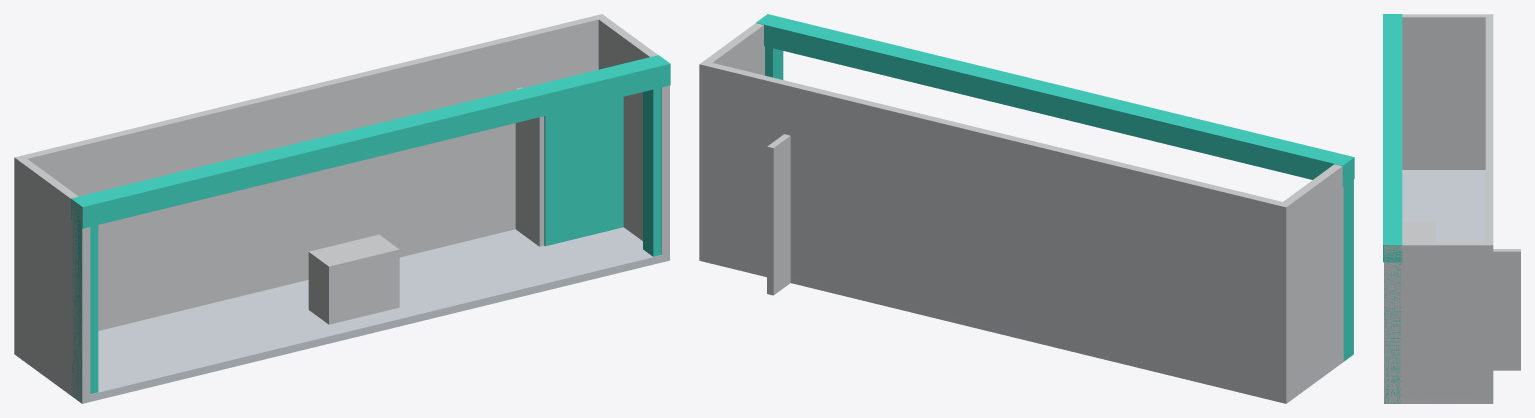
3 views of the same model, side by side, from view 1: azimuth 30°, elevation 25°; view 2: azimuth 150°, elevation 25°; view 3: azimuth 270°, elevation 25° (orthographic). The views are drawn at different scales.
Visible parts, largest first — view 1: Exhibition Booth Concept; view 2: Exhibition Booth Concept; view 3: Exhibition Booth Concept.
Boxes of the visible parts, left/top/right/bottom form: Exhibition Booth Concept: left=14, top=14, right=670, bottom=403; Exhibition Booth Concept: left=699, top=14, right=1354, bottom=403; Exhibition Booth Concept: left=1383, top=14, right=1520, bottom=403.
Size of the model in its own units: 10 by 3.2 by 2.52.
